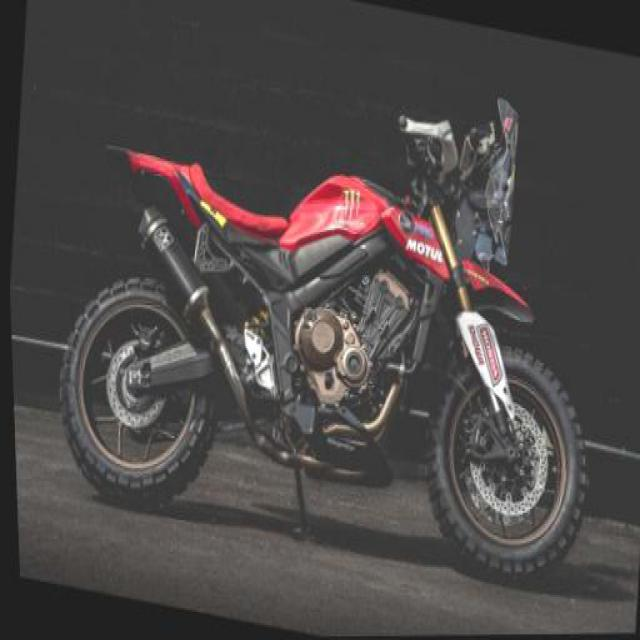CB650R: (38, 61, 622, 609)
